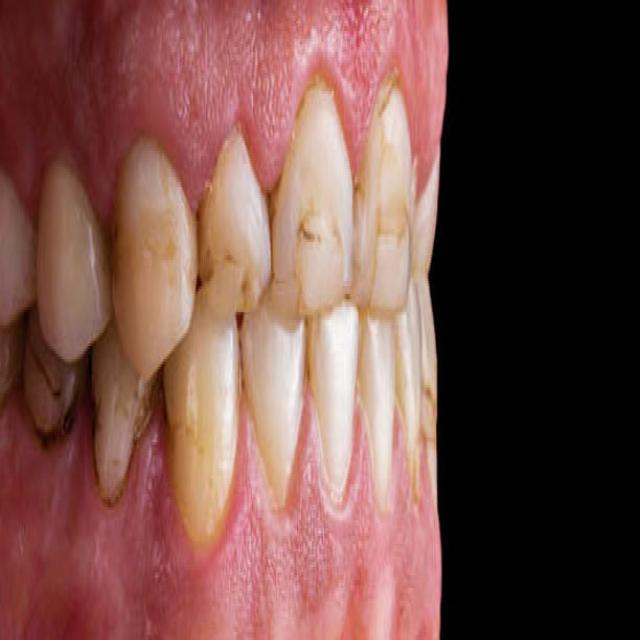caries: (288, 194, 344, 318), (363, 191, 411, 312), (200, 232, 254, 322)
